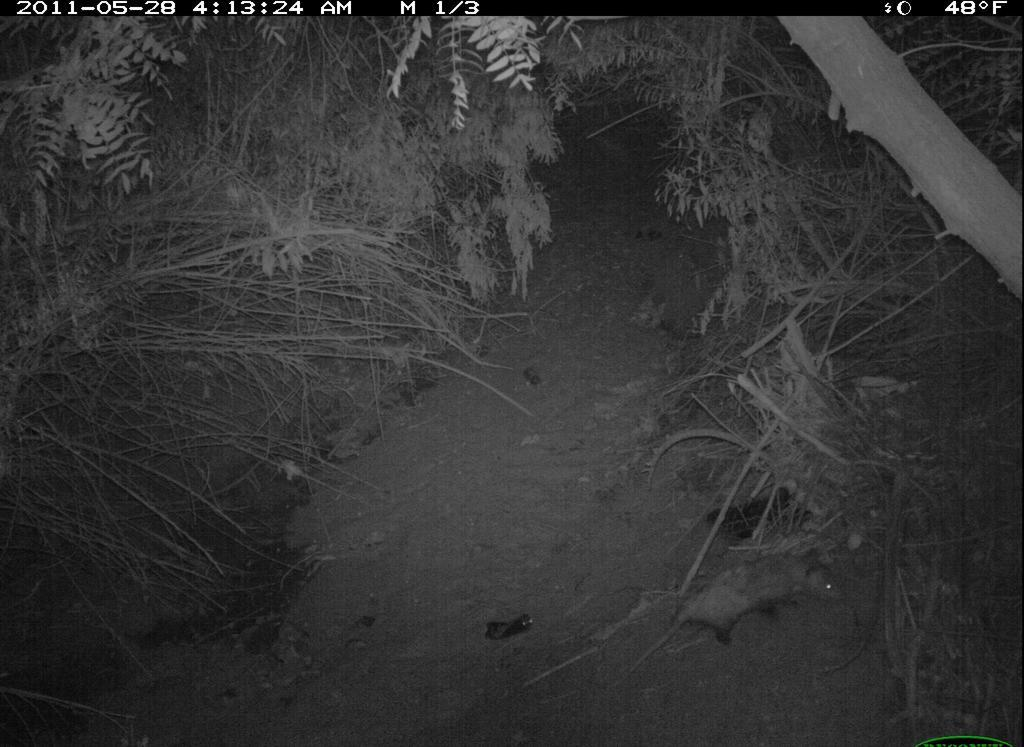opossum: (598, 537, 853, 697)
